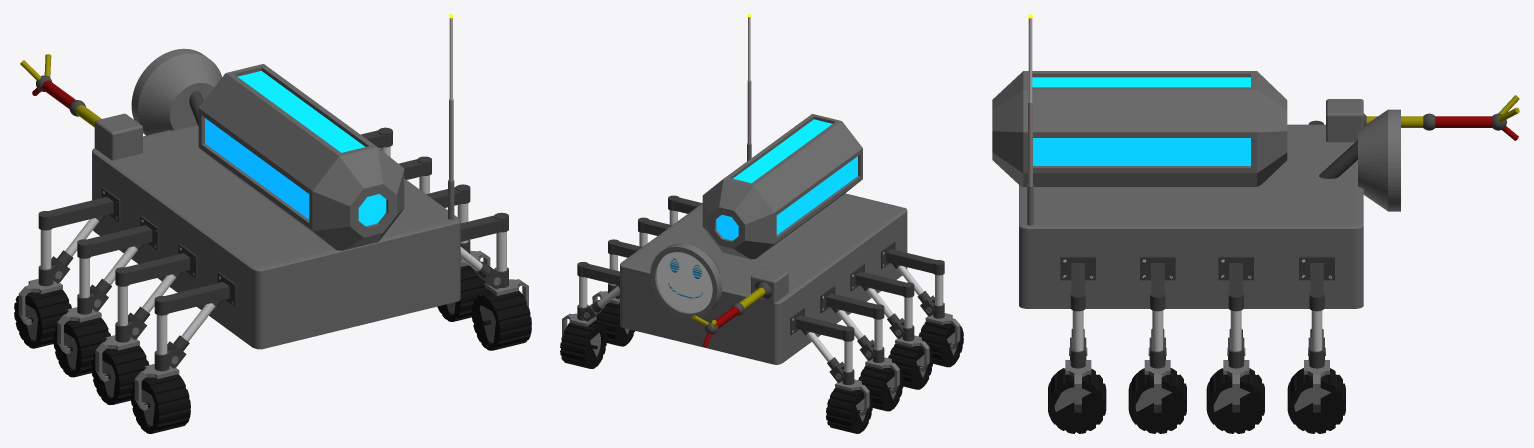
The model's file is rover.fbx.
3 views of the same model, side by side, from view 1: azimuth 30°, elevation 25°; view 2: azimuth 150°, elevation 25°; view 3: azimuth 270°, elevation 25° (orthographic). The views are drawn at different scales.
Visible parts, largest first — view 1: Cylinder.002; view 2: Cylinder.002; view 3: Cylinder.002.
Boxes of the visible parts, left/top/right/bottom form: Cylinder.002: left=14, top=14, right=531, bottom=433; Cylinder.002: left=560, top=14, right=963, bottom=433; Cylinder.002: left=992, top=14, right=1519, bottom=433.
Size of the model in its own units: 785 by 701 by 893.
